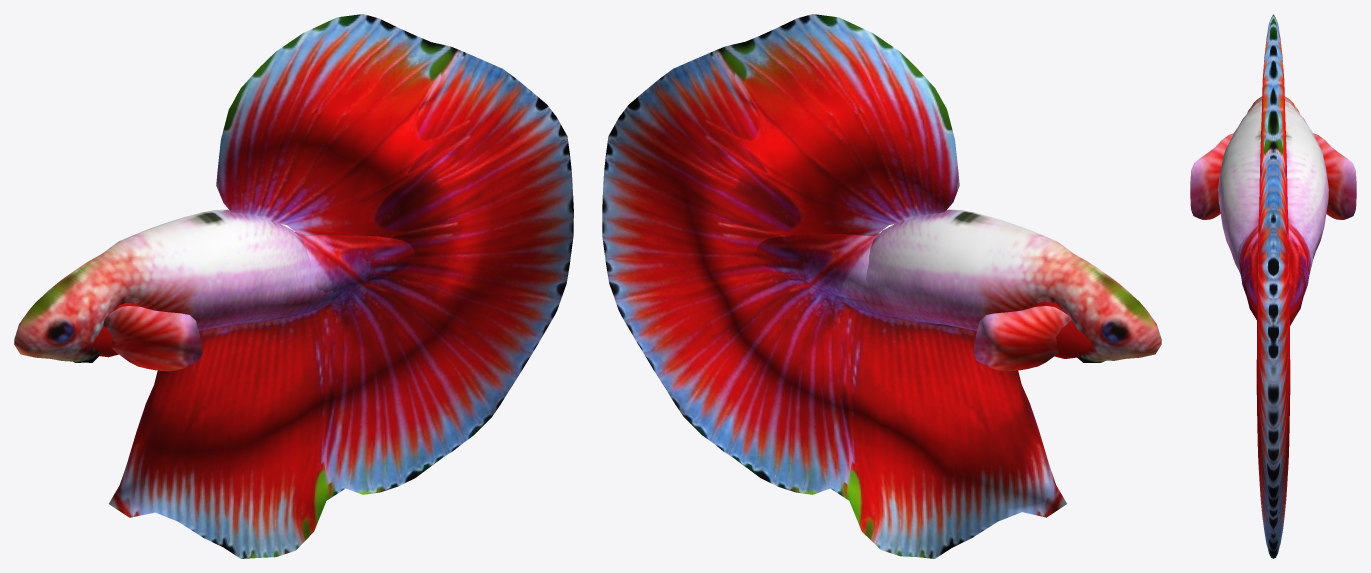
File: koi.glb
3 renders of one model, left to right at view 1: azimuth 30°, elevation 25°; view 2: azimuth 150°, elevation 25°; view 3: azimuth 270°, elevation 25°, orthographic. The views are drawn at different scales.
Visible parts, largest first — view 1: Object_2; view 2: Object_2; view 3: Object_2.
Part boxes in pixels (x1,y1,x2,y2): Object_2: [14, 14, 573, 558]; Object_2: [602, 14, 1161, 558]; Object_2: [1190, 14, 1356, 558].
Size of the model in its own units: 0.346 by 0.3099 by 0.0864.
1 material, 1 textured.
